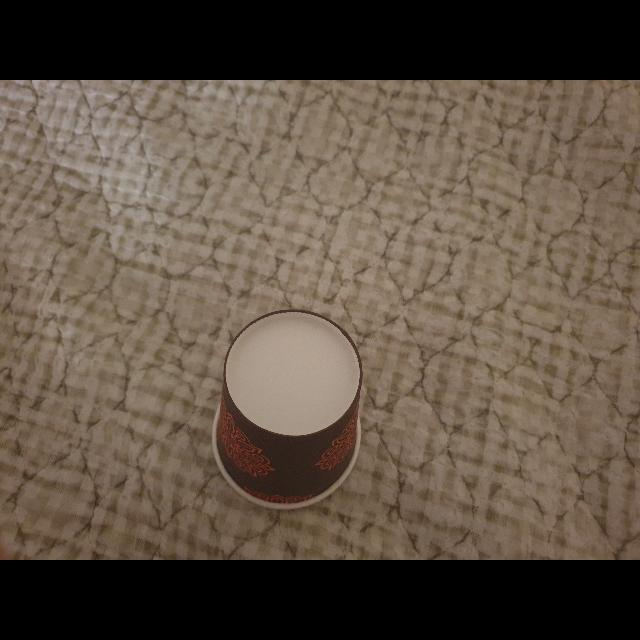trash: (205, 304, 378, 512)
